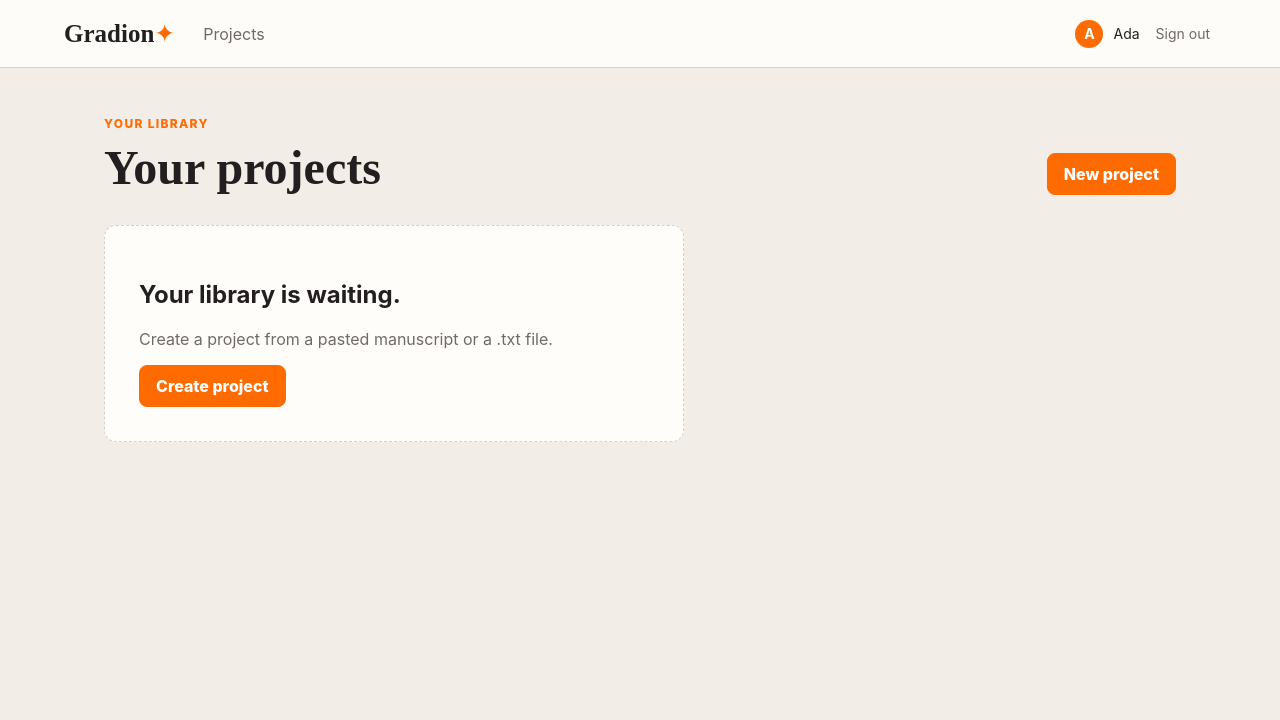
Test: frontend project flow › destroys the server session when signing out
Expected: the heading "Your projects" is shown, [104,140,381,195]
Step 1. Click the button "Sign out" → [1183, 34], box [1150,24,1216,43]
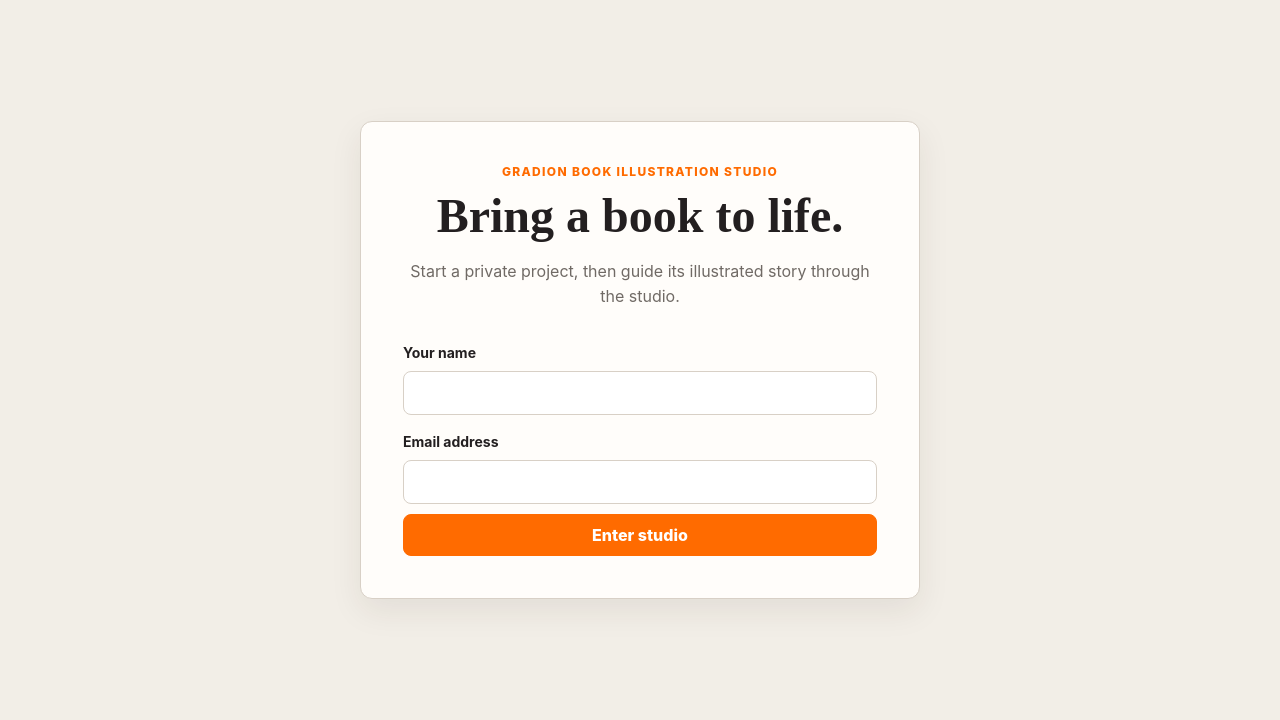
Now the heading "Bring a book to life." is shown, box [403,188,877,243]
